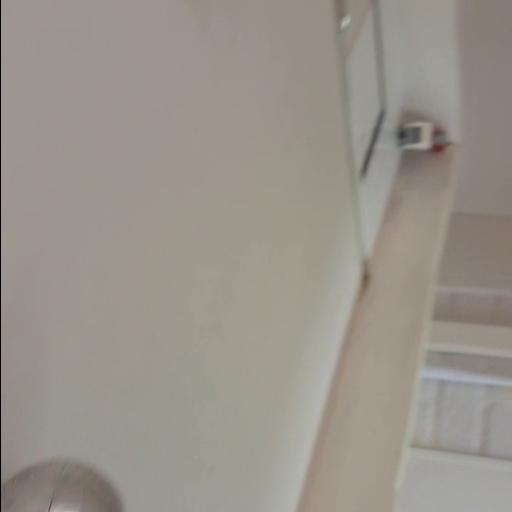alive: (0, 459, 125, 512)
